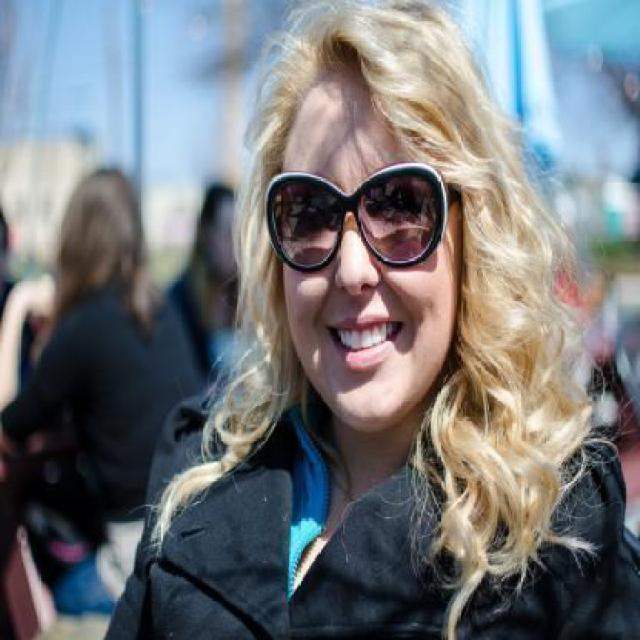face_nomask: (262, 168, 453, 364)
glasses: (262, 175, 463, 279)
head_nohelmet: (263, 25, 469, 141)
person: (140, 0, 640, 640)
